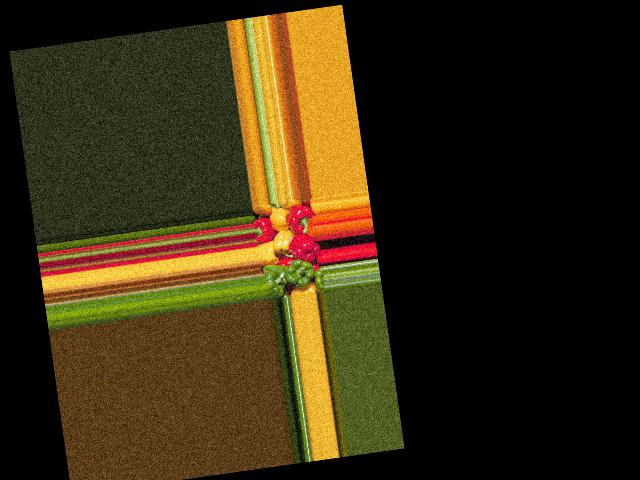bell_pepper: (309, 265, 327, 293)
